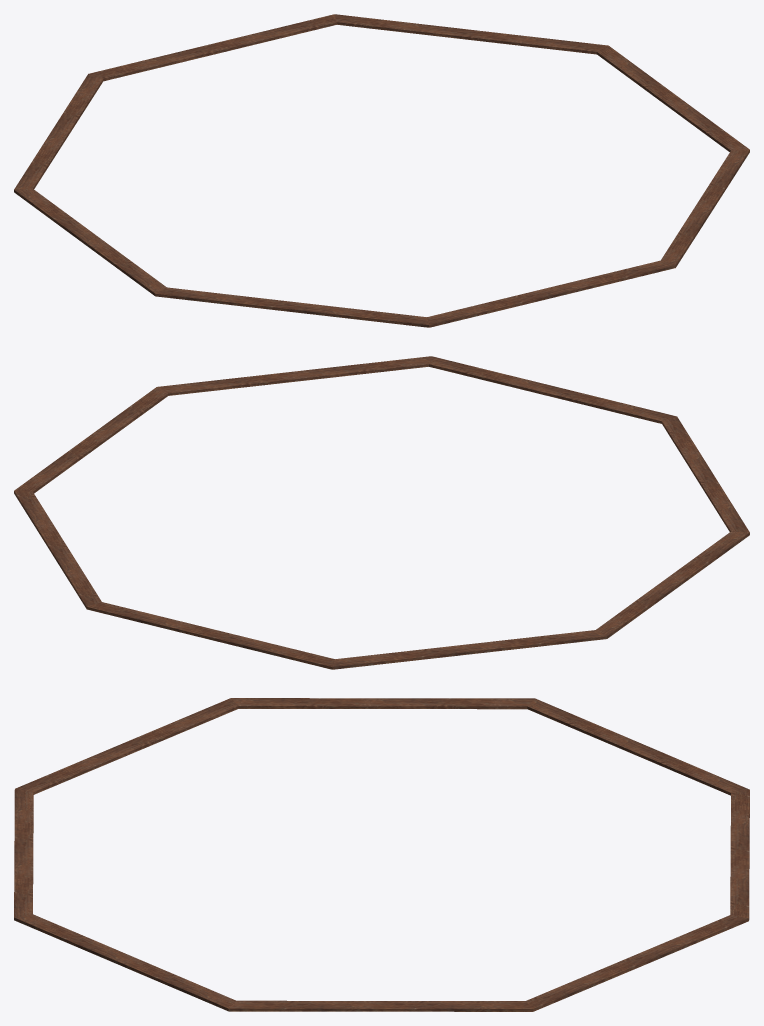
Rendered from Prop_GroundWoodOctagon02.fbx.
3 renders of one model, top to bottom at view 1: azimuth 30°, elevation 25°; view 2: azimuth 150°, elevation 25°; view 3: azimuth 270°, elevation 25°, orthographic. The views are drawn at different scales.
Parts seen in each view (by area): view 1: Prop_GroundWoodOctagon02; view 2: Prop_GroundWoodOctagon02; view 3: Prop_GroundWoodOctagon02.
Boxes of the visible parts, x1,y1,x2,y2 form: Prop_GroundWoodOctagon02: (14, 14, 749, 327); Prop_GroundWoodOctagon02: (14, 356, 749, 669); Prop_GroundWoodOctagon02: (14, 698, 749, 1011).
Bounding box in the file's own units: 195 × 0.8215 × 195.
